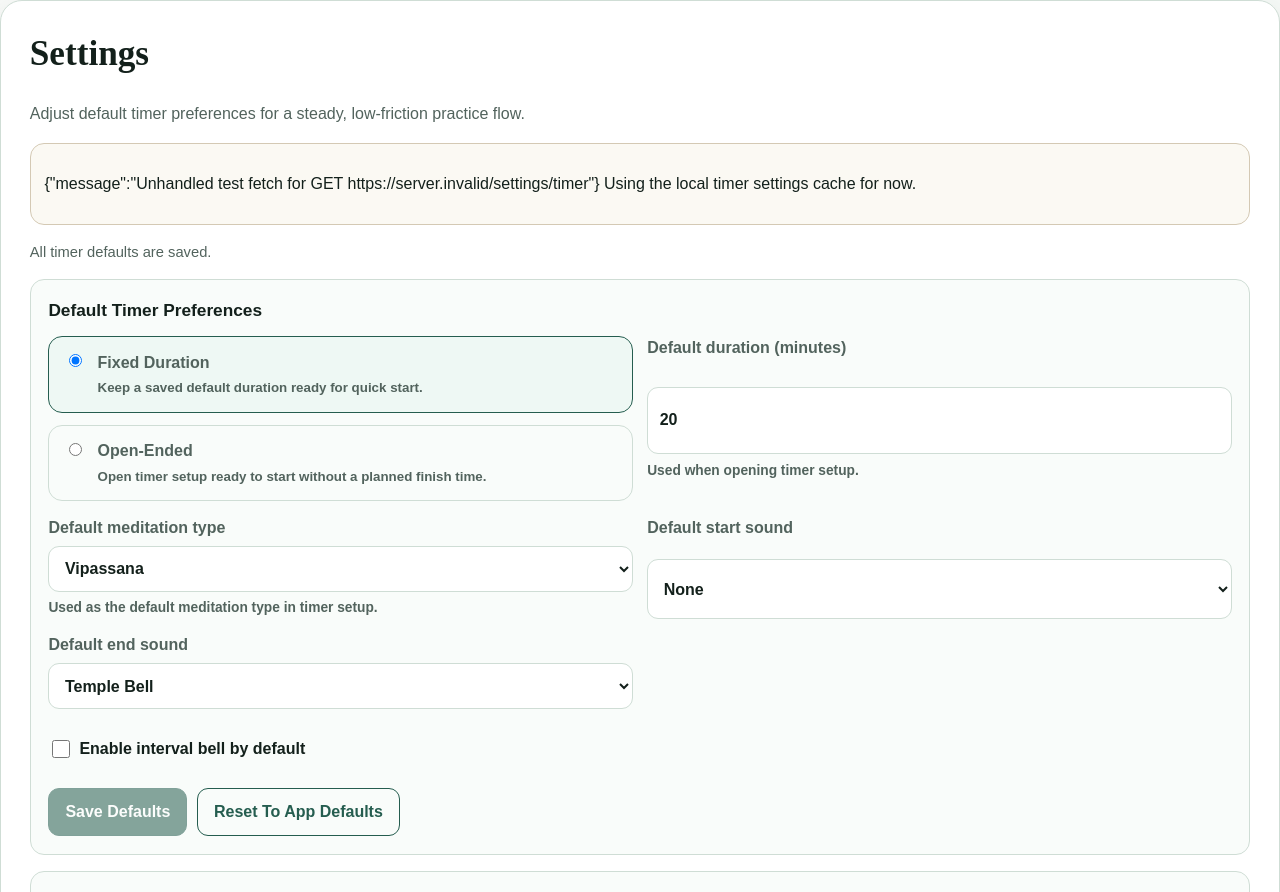
Scenario: SettingsPage UX › shows unsaved-edits state and disables save when unchanged
Expected: the text "All timer defaults are saved." is shown, [30, 244, 211, 260]
Expected: the button "Save Defaults" is disabled, [48, 788, 187, 836]
Step 1. Replace the text in the number field labelled "Default duration (minutes) Used when opening timer setup." with "25" → (939, 420), box [647, 387, 1232, 454]
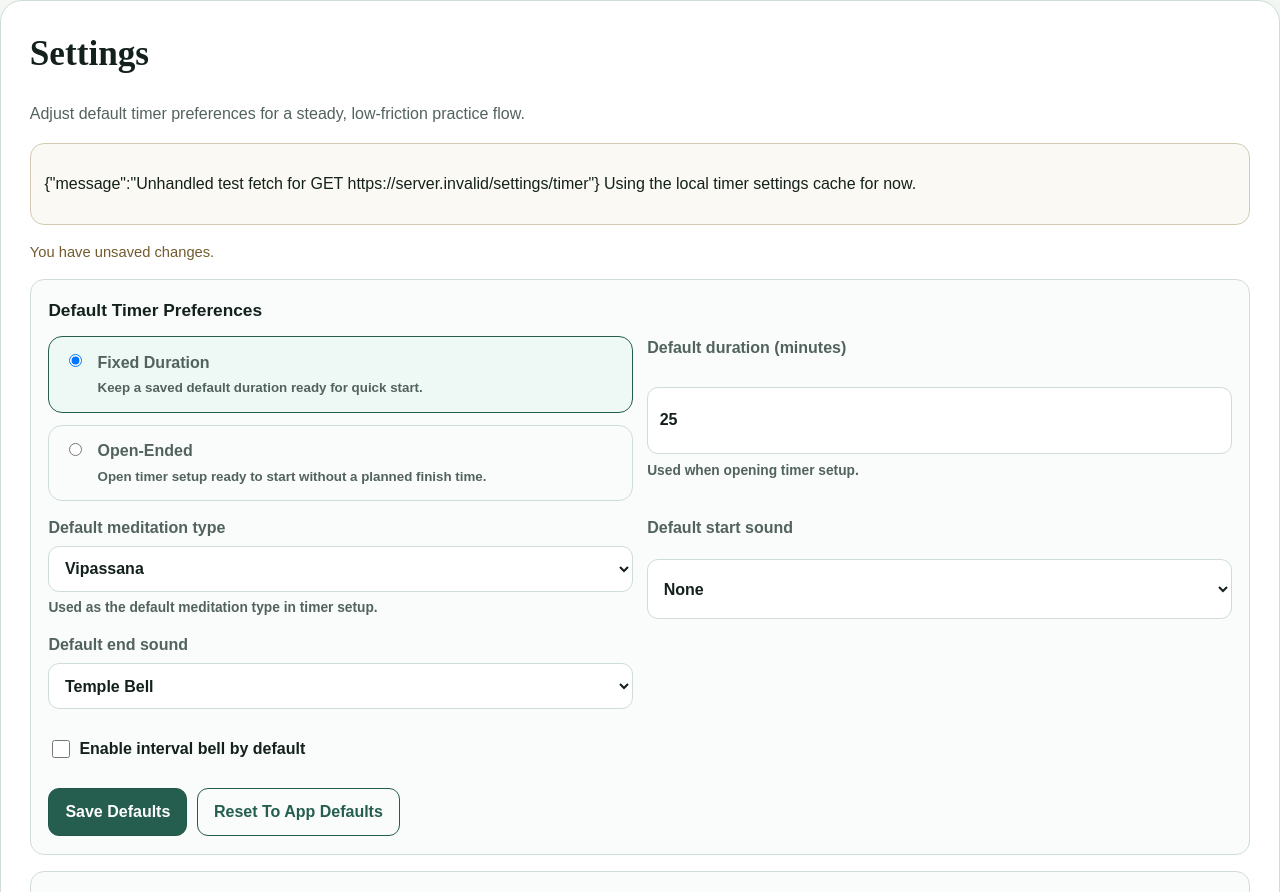
Expected: the text "You have unsaved changes." is shown, [30, 244, 214, 260]
Expected: the button "Save Defaults" is enabled, [48, 788, 187, 836]
